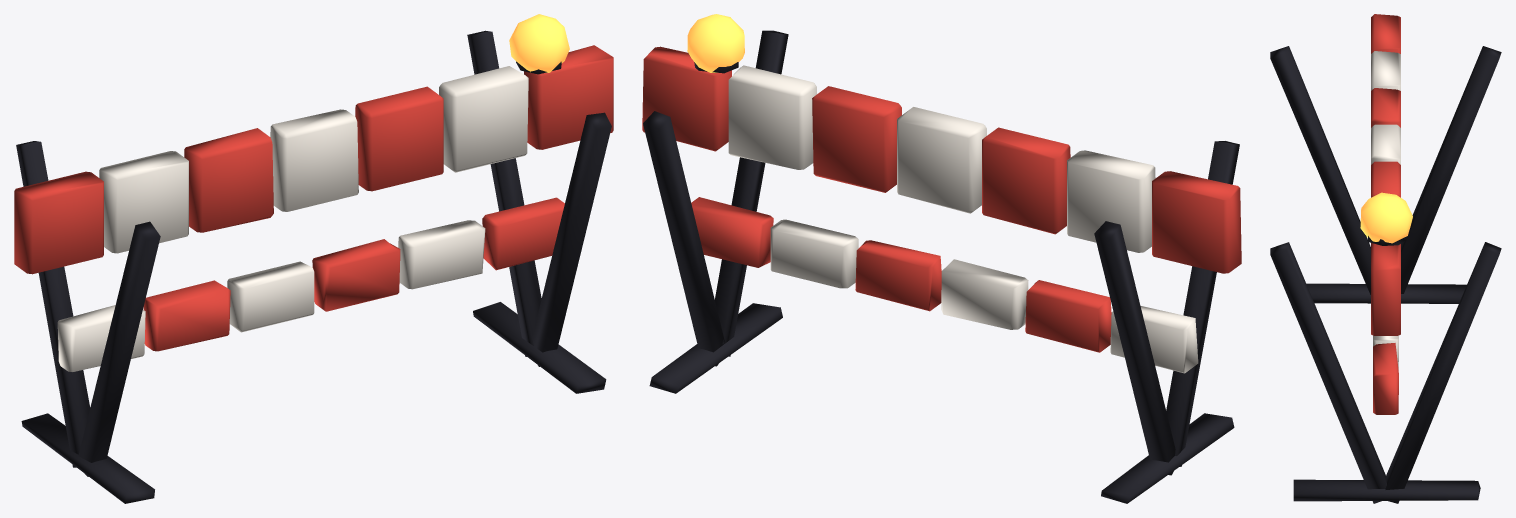
Rendered from barricade.glb.
The picture shows the model from 3 angles, left to right: view 1: azimuth 30°, elevation 25°; view 2: azimuth 150°, elevation 25°; view 3: azimuth 270°, elevation 25°; orthographic projection. The views are drawn at different scales.
Parts seen in each view (by area): view 1: barricade.012, lamp.010; view 2: barricade.012, lamp.010; view 3: barricade.012, lamp.010.
Boxes of the visible parts, x1=… form: barricade.012: x1=14, y1=30, x2=613, y2=503; lamp.010: x1=509, y1=14, x2=569, y2=72; barricade.012: x1=642, y1=30, x2=1241, y2=503; lamp.010: x1=687, y1=14, x2=744, y2=72; barricade.012: x1=1270, y1=14, x2=1501, y2=503; lamp.010: x1=1360, y1=192, x2=1412, y2=243.
Bounding box in the file's own units: 2.21 × 1.23 × 0.8474.
Materials: 1 (1 with a texture image).
